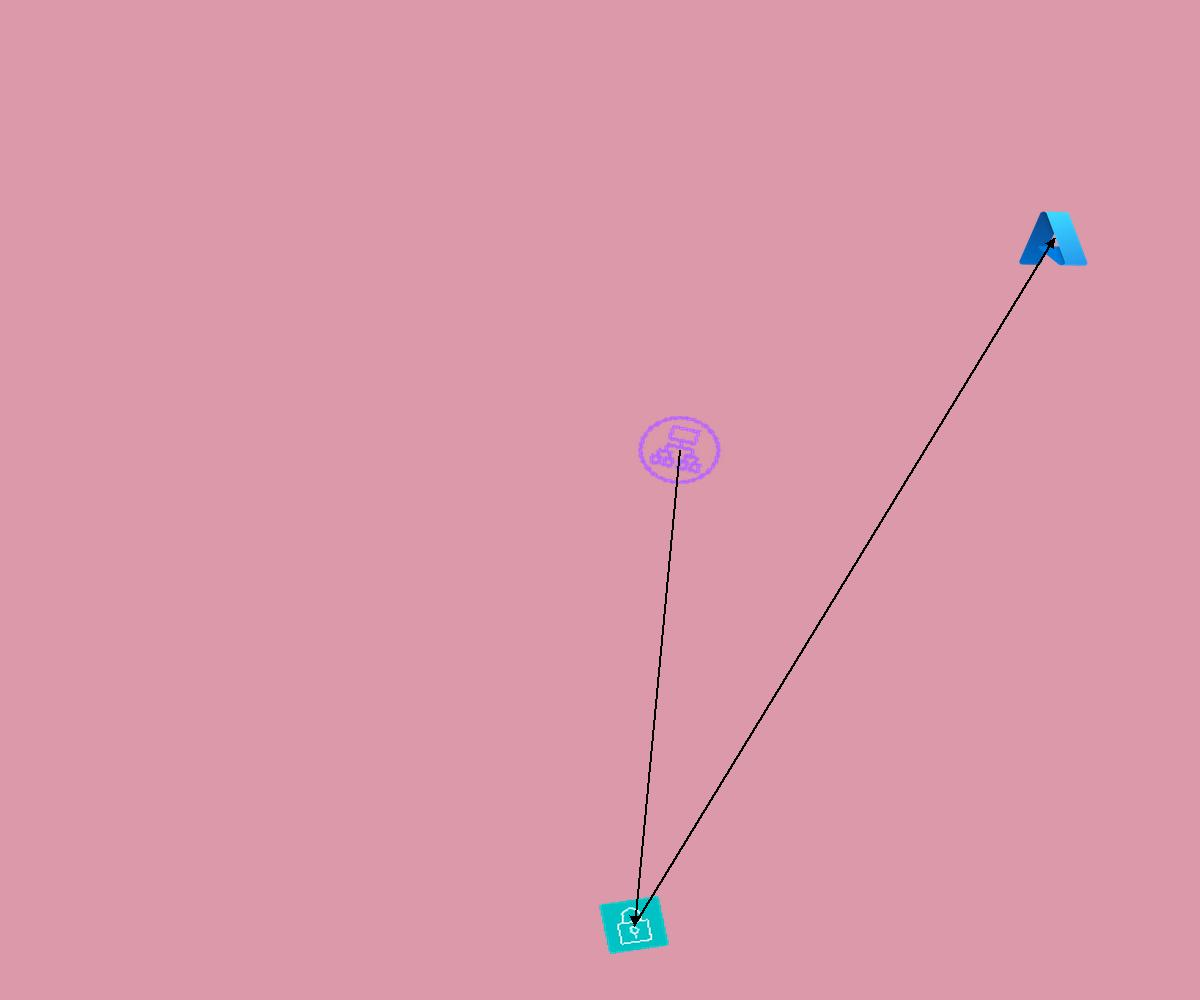AWS-Private-subnet: (598, 895, 670, 955)
AWS-Res_Elastic-Load-Balancing_Application-Load-Balancer: (624, 404, 735, 496)
Azure_services: (1016, 207, 1092, 270)
